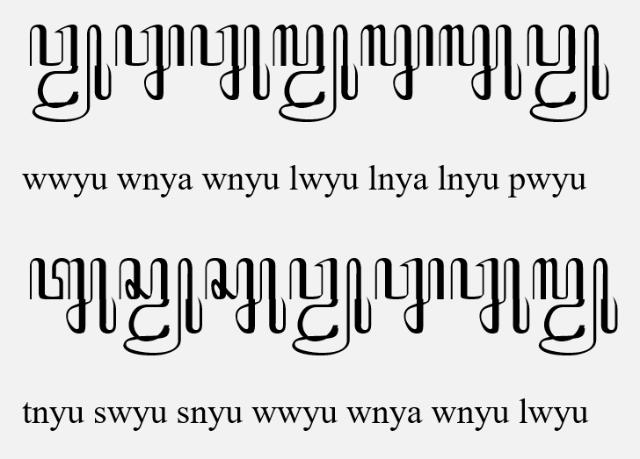lny: (360, 25, 434, 102)
lnyu: (438, 23, 522, 101)
lwyu: (533, 257, 619, 357), (272, 24, 358, 122)
pwyu: (526, 23, 610, 122)
snyu: (204, 258, 286, 334)
swyu: (119, 256, 203, 358)
tnyu: (28, 258, 118, 334)
wny: (114, 23, 186, 101), (374, 258, 444, 334)
wnyu: (189, 23, 271, 101), (450, 258, 530, 334)
wwyu: (28, 23, 112, 123), (288, 257, 372, 357)
